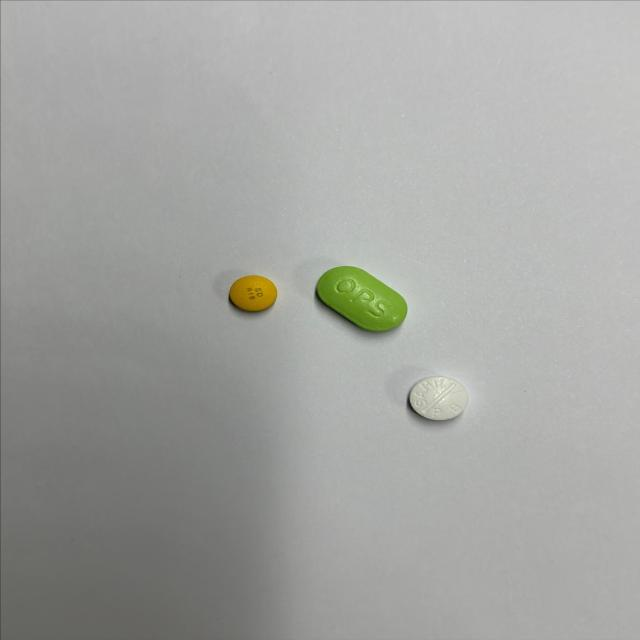Piller: (317, 266, 407, 331)
